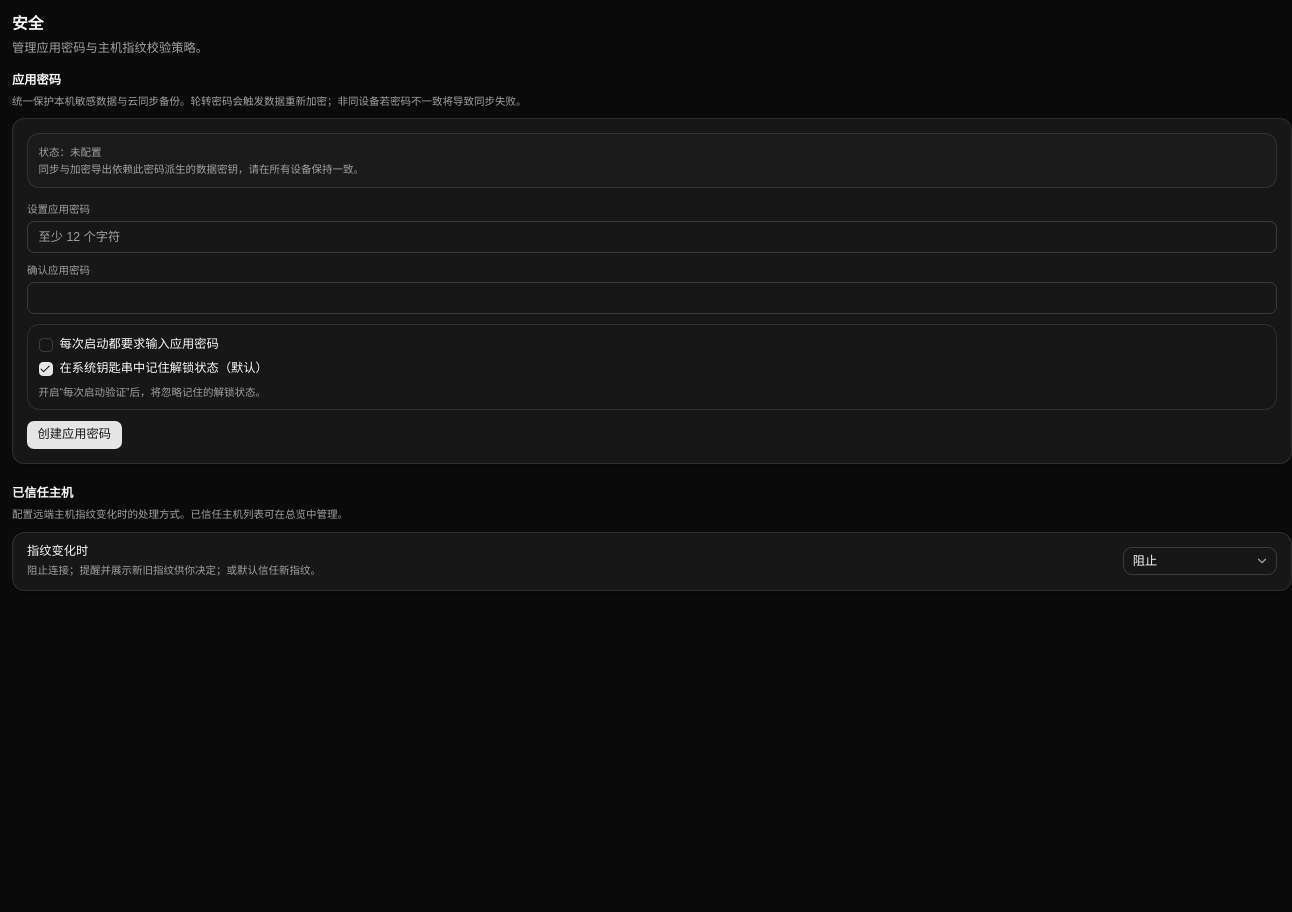
Scenario: SecurityPanel › keeps password validation errors panel-owned without toast
Expected: the heading "应用密码" is shown, [12,72,61,86]
Type "short" into the password field named "设置应用密码".
click(652, 237); type("short")  # box [27,221,1277,253]
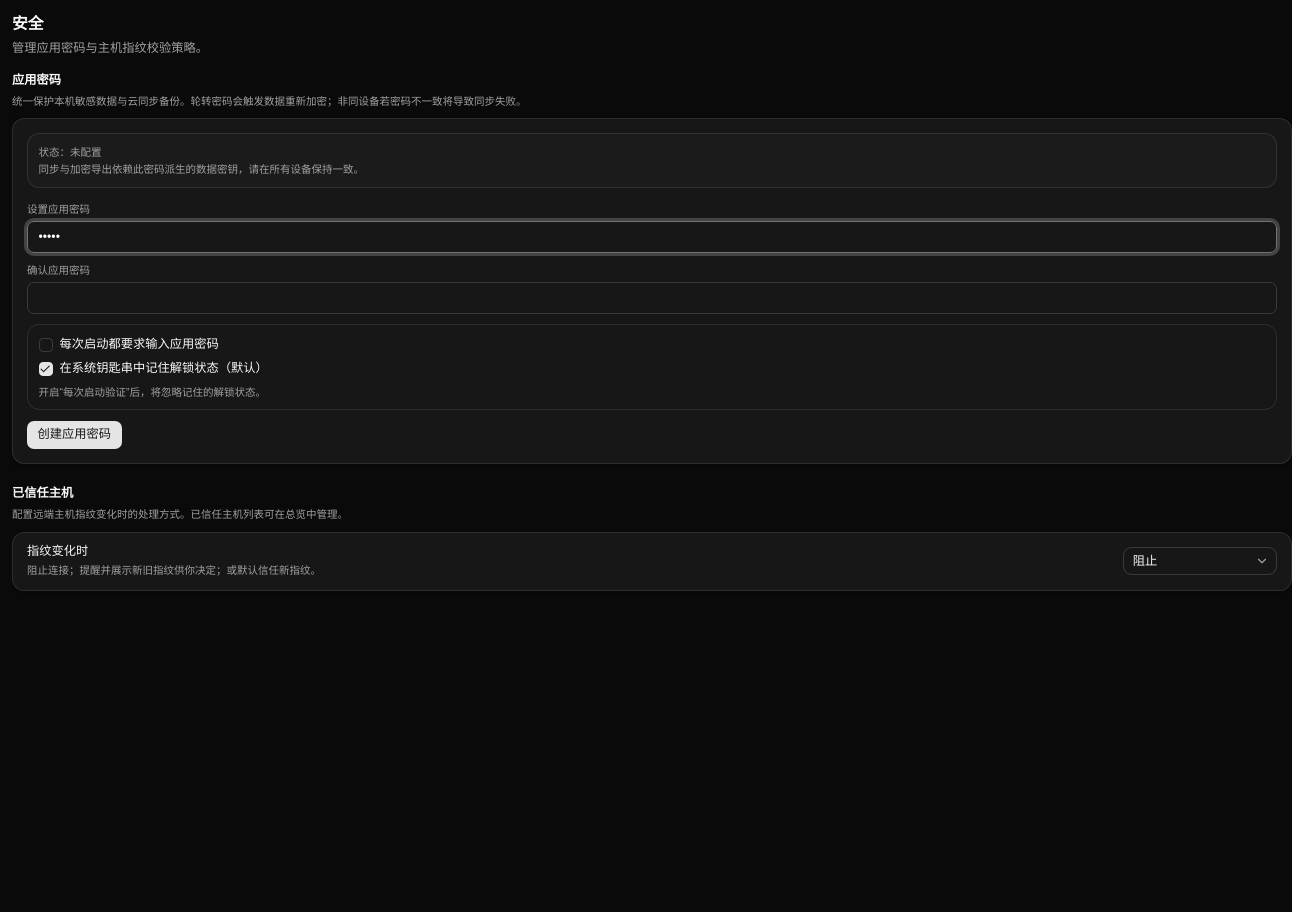
Type "short" into the password field named "确认应用密码".
click(652, 298); type("short")  # box [27,282,1277,314]
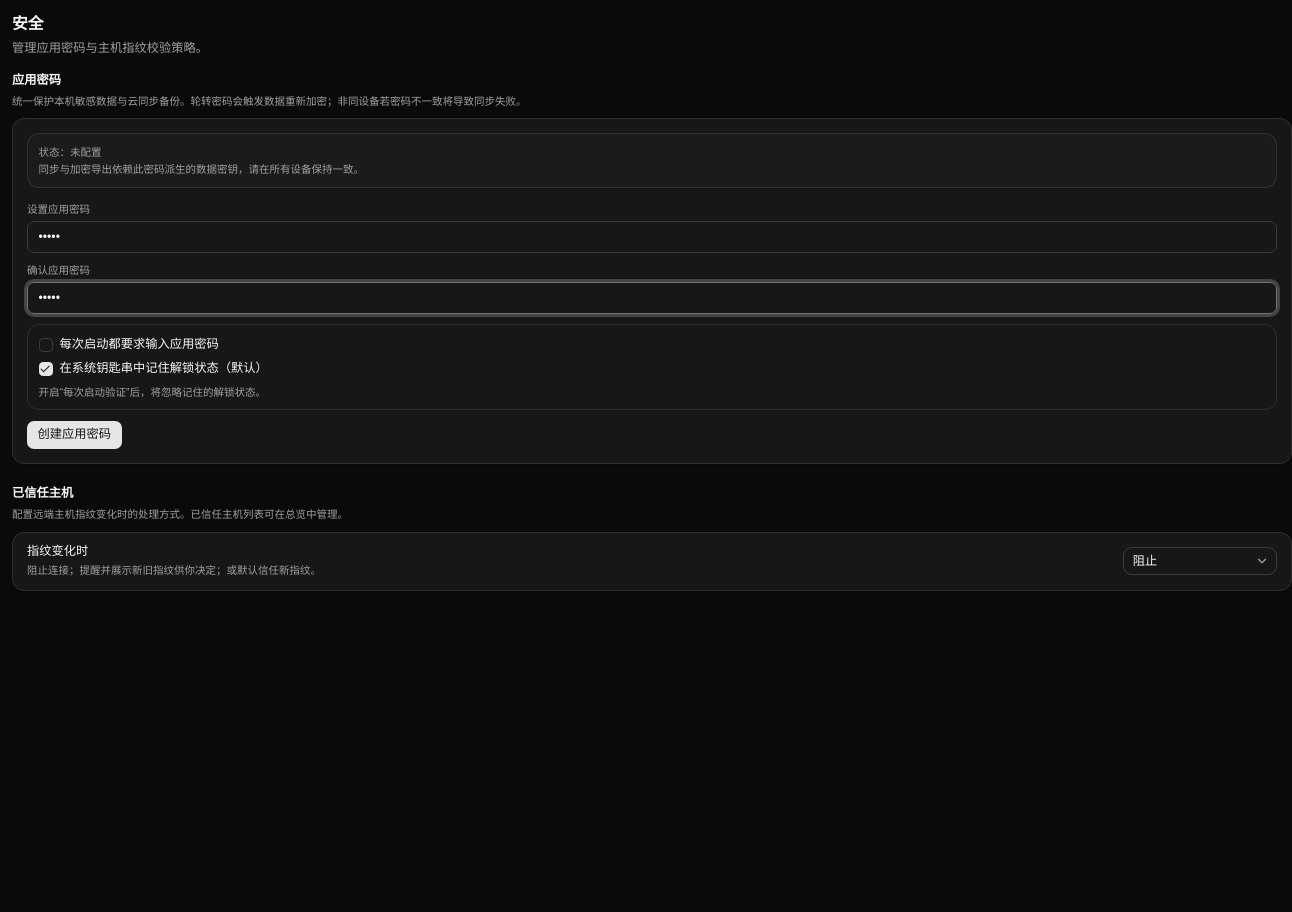
Click the button "创建应用密码".
click(74, 435)  # box [27,421,122,449]
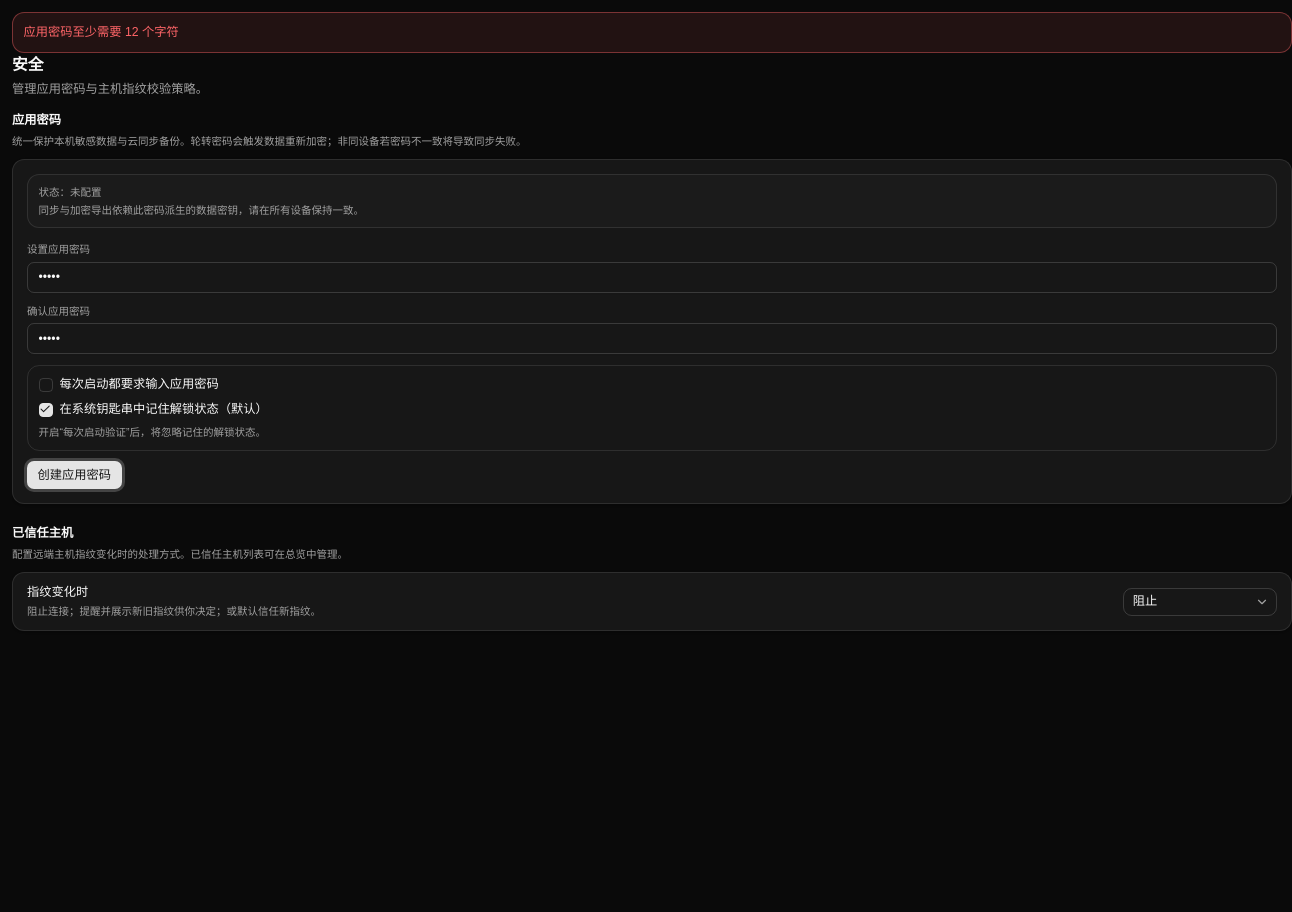
Now the message reads "应用密码至少需要 12 个字符", box [24,24,179,38]
